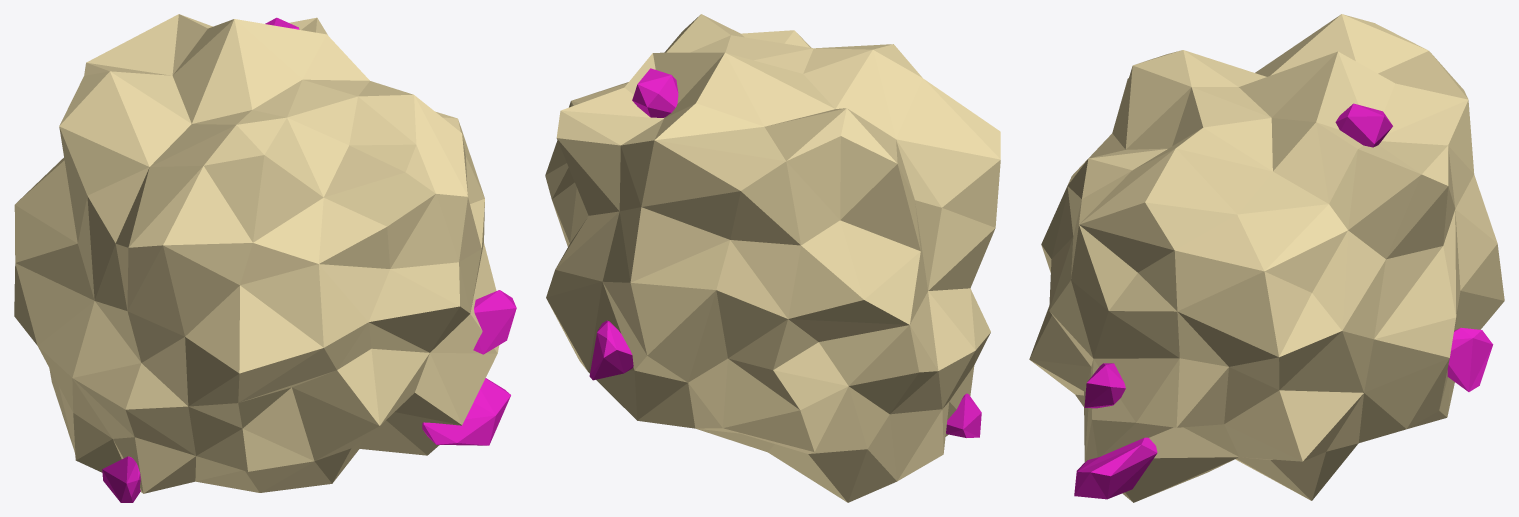
Rendered from CrystalOre (2).fbx.
The picture shows the model from 3 angles, left to right: view 1: azimuth 30°, elevation 25°; view 2: azimuth 150°, elevation 25°; view 3: azimuth 270°, elevation 25°; orthographic projection. The views are drawn at different scales.
Parts seen in each view (by area): view 1: Asteroid286; view 2: Asteroid286; view 3: Asteroid286.
Boxes of the visible parts, x1,y1,x2,y2 form: Asteroid286: (14, 14, 516, 502); Asteroid286: (545, 14, 1000, 502); Asteroid286: (1029, 14, 1504, 502).
Bounding box in the file's own units: 419 × 394 × 401.
